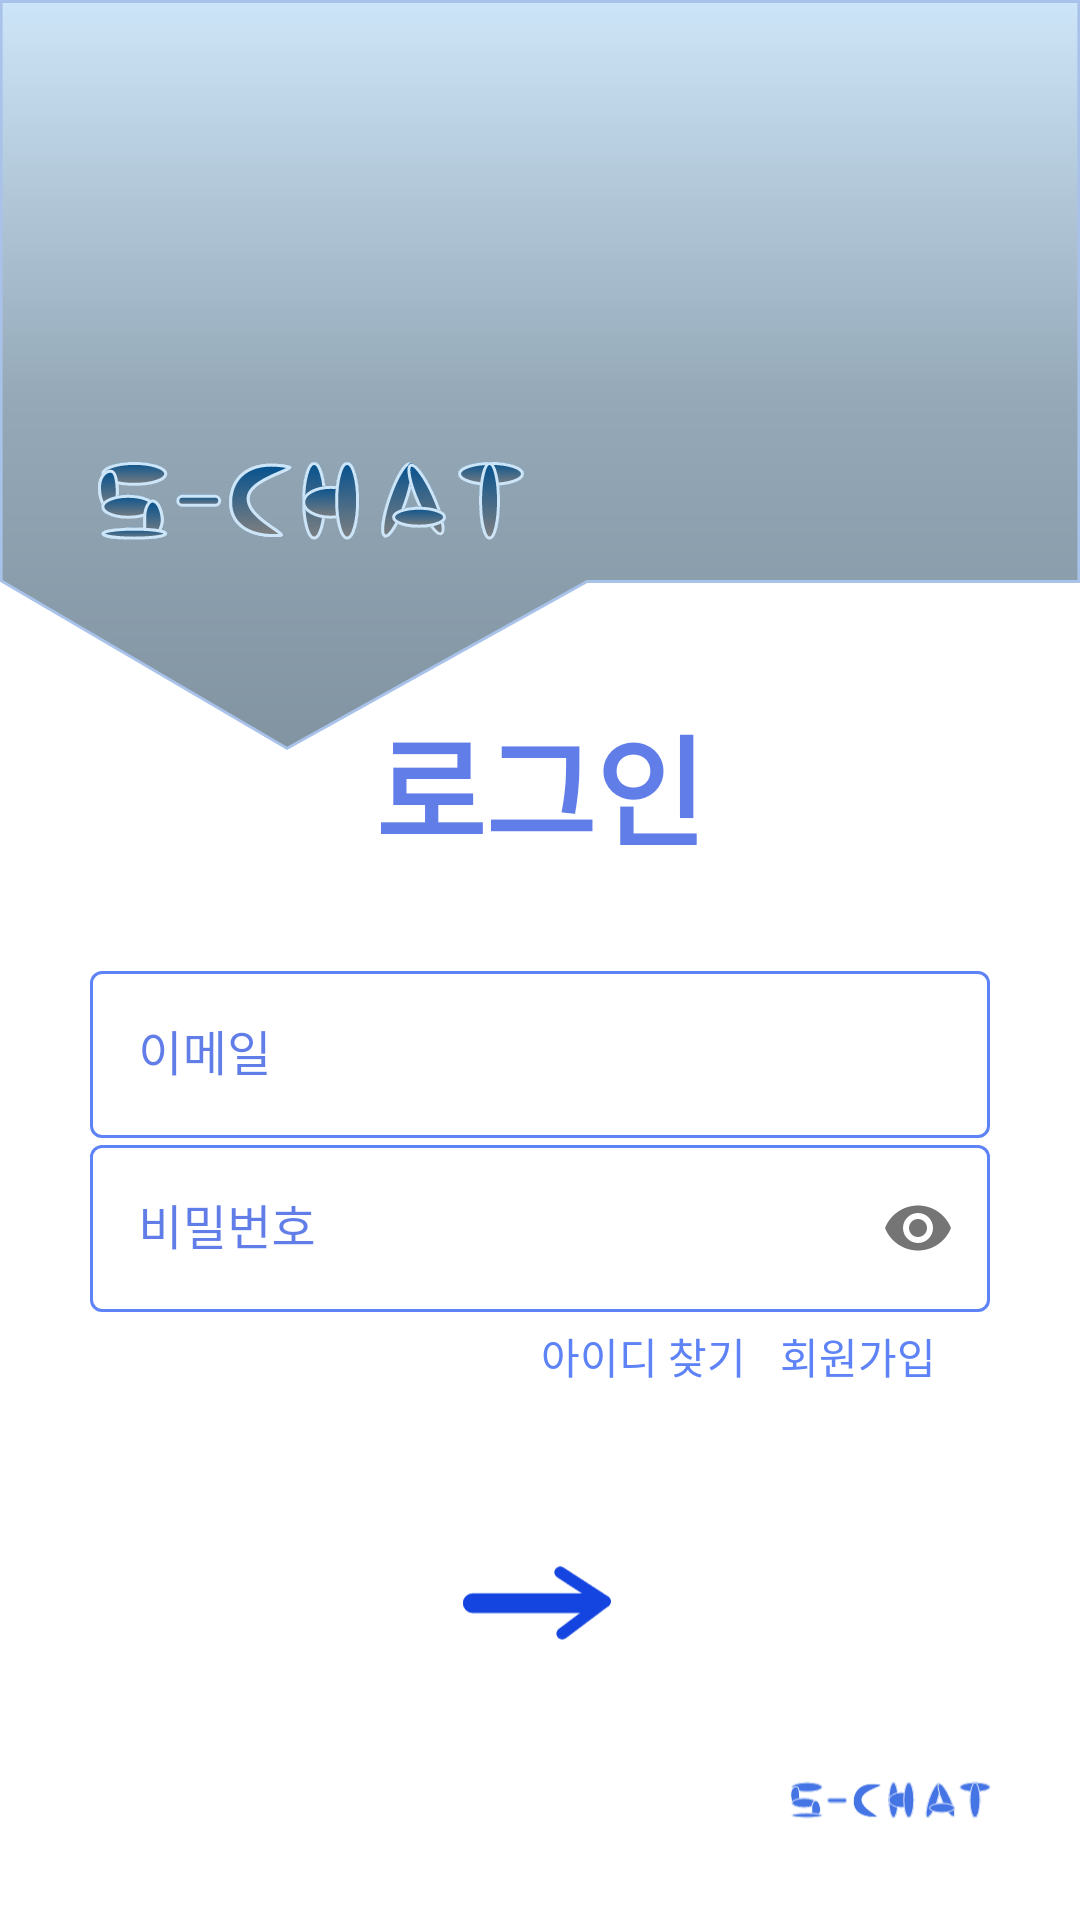

Screen size 1080x1920. Icon name, then its center in pixels as point (x, y):
arrow: point (537, 1603)
